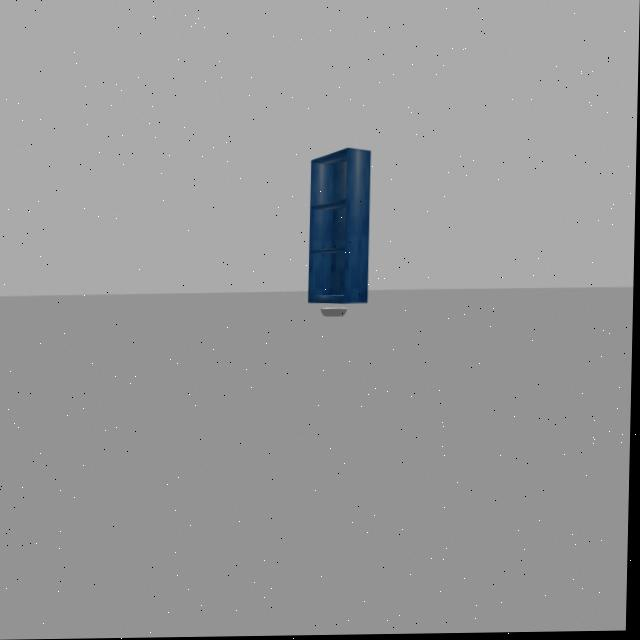bowl: (321, 306, 352, 320)
shelf: (297, 139, 379, 306)
